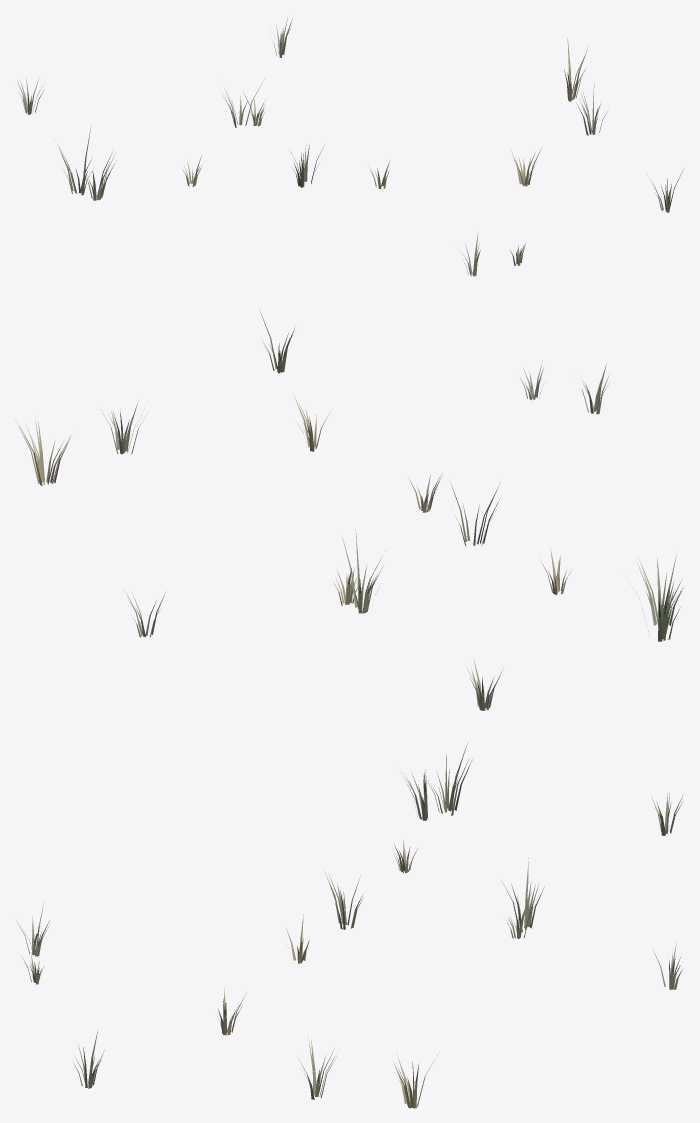
The model's file is AE_Grass_0_-4.fbx.
The picture shows the model from 3 angles, top to bottom: view 1: azimuth 30°, elevation 25°; view 2: azimuth 150°, elevation 25°; view 3: azimuth 270°, elevation 25°; orthographic projection. The views are drawn at different scales.
Parts seen in each view (by area): view 1: AE_Grass_0_-4_LOD0; view 2: AE_Grass_0_-4_LOD0; view 3: AE_Grass_0_-4_LOD0.
Boxes of the visible parts, <box> form: AE_Grass_0_-4_LOD0: <box>16,17,682,276</box>; AE_Grass_0_-4_LOD0: <box>15,310,682,710</box>; AE_Grass_0_-4_LOD0: <box>16,742,682,1108</box>.
Size of what is drawn, in the model's own units: 914 by 123 by 856.
